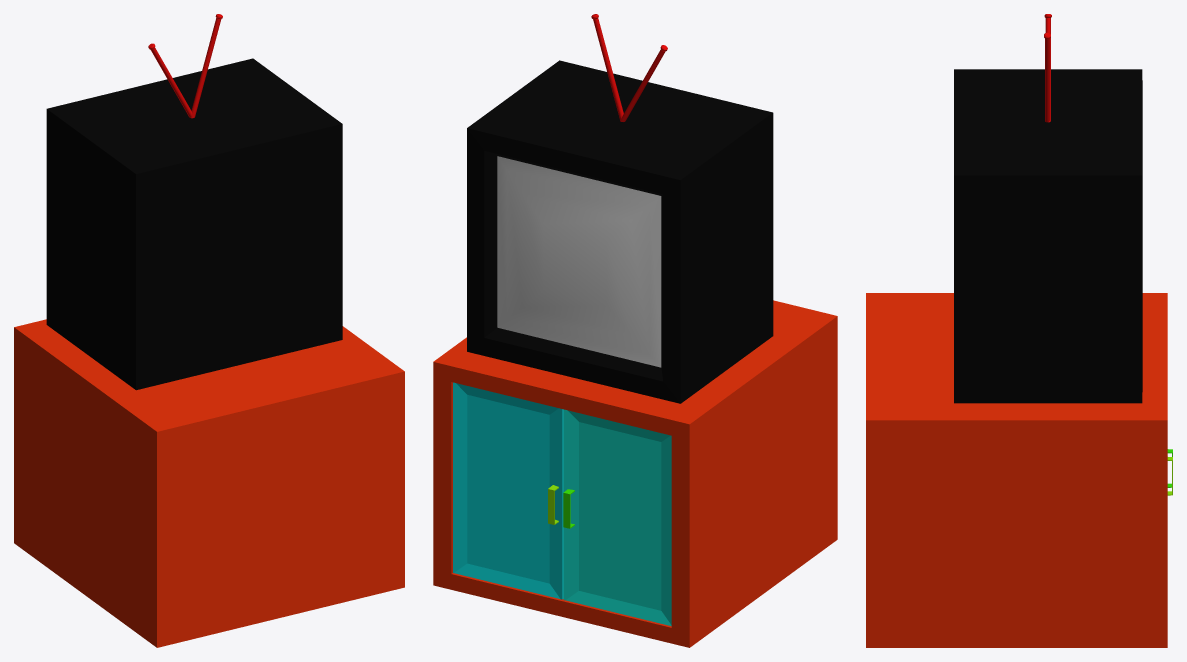
Rendered from TVandTable.fbx.
3 renders of one model, left to right at view 1: azimuth 30°, elevation 25°; view 2: azimuth 150°, elevation 25°; view 3: azimuth 270°, elevation 25°, orthographic. The views are drawn at different scales.
Visible parts, largest first — view 1: Cube.024, Cylinder; view 2: Cylinder, Cube.024, Cube.035, Cube.034; view 3: Cube.024, Cylinder.
Boxes of the visible parts, x1,y1,x2,y2 form: Cube.024: (14, 319, 404, 647); Cylinder: (46, 14, 342, 390); Cylinder: (467, 14, 773, 403); Cube.024: (433, 300, 837, 647); Cube.035: (453, 382, 563, 599); Cube.034: (563, 409, 671, 626); Cube.024: (866, 293, 1167, 647); Cylinder: (954, 14, 1142, 403).
Size of the model in its own units: 24 by 49.47 by 24.43.
